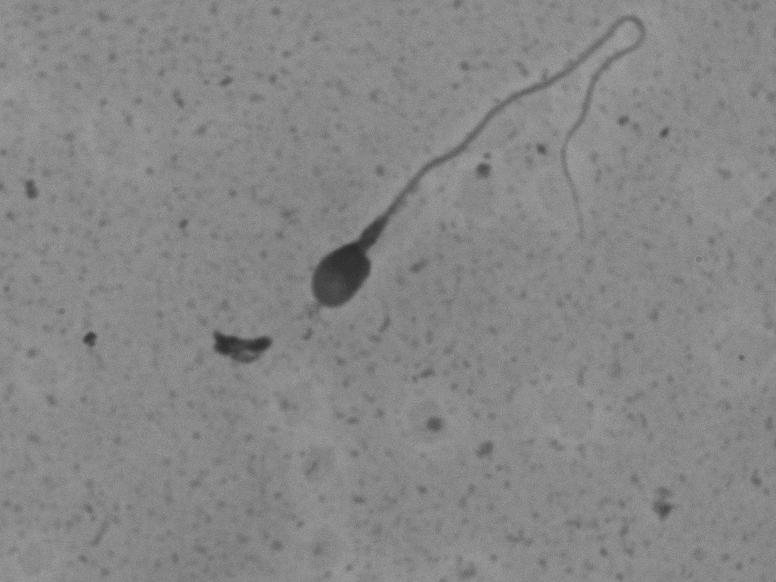Abnormal: (294, 5, 672, 333)
